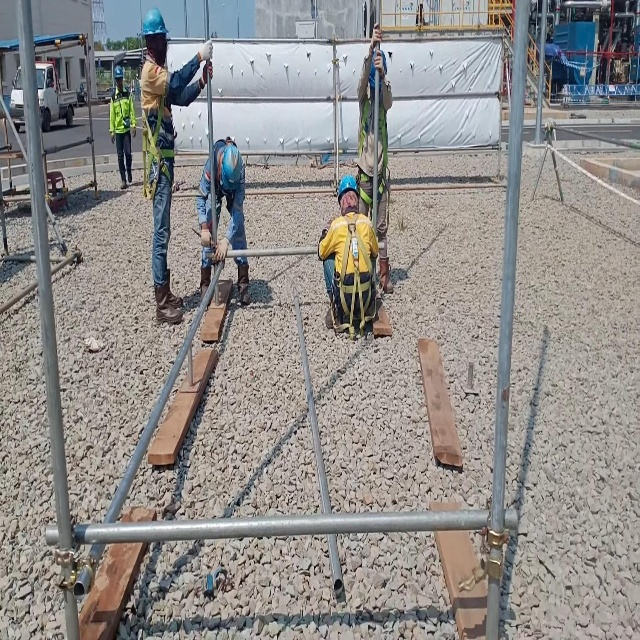Arnes_seguridad: (331, 205, 377, 334), (141, 93, 179, 199), (356, 98, 390, 206)
